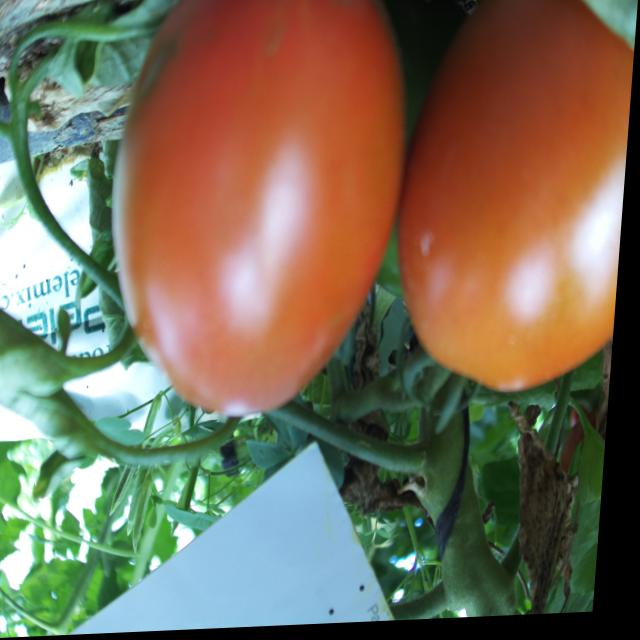kirmizi: (76, 0, 640, 419)
